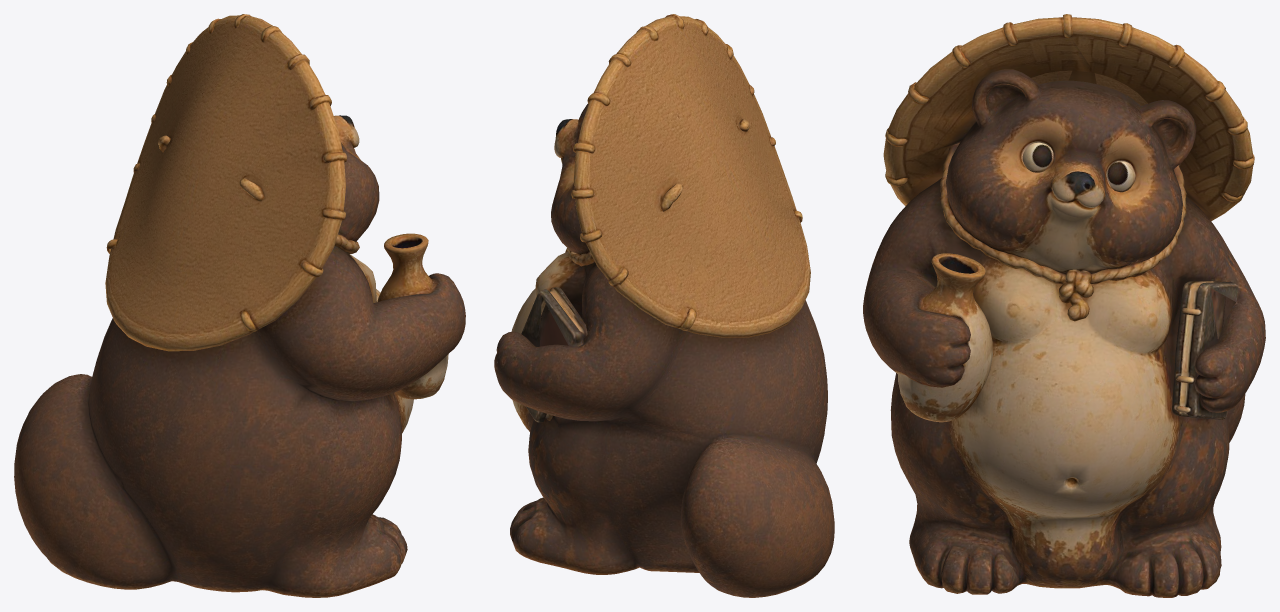
File: tanuki.glb
3 views of the same model, side by side, from view 1: azimuth 30°, elevation 25°; view 2: azimuth 150°, elevation 25°; view 3: azimuth 270°, elevation 25° (orthographic). The views are drawn at different scales.
Visible parts, largest first — view 1: tripo_node_80ad5bea-4cb5-4c42-bf08-1b1e338551d8; view 2: tripo_node_80ad5bea-4cb5-4c42-bf08-1b1e338551d8; view 3: tripo_node_80ad5bea-4cb5-4c42-bf08-1b1e338551d8.
Boxes of the visible parts, left/top/right/bottom form: tripo_node_80ad5bea-4cb5-4c42-bf08-1b1e338551d8: left=14, top=14, right=465, bottom=597; tripo_node_80ad5bea-4cb5-4c42-bf08-1b1e338551d8: left=494, top=14, right=834, bottom=597; tripo_node_80ad5bea-4cb5-4c42-bf08-1b1e338551d8: left=863, top=14, right=1265, bottom=597.
Size of the model in its own units: 0.686 by 0.9995 by 0.6743.
Materials: 1 (1 with a texture image).
